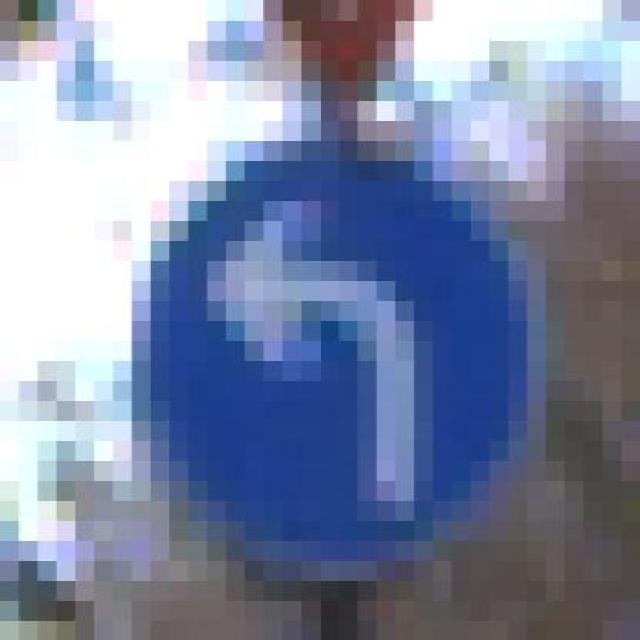Turn left ahead: (132, 120, 546, 580)
